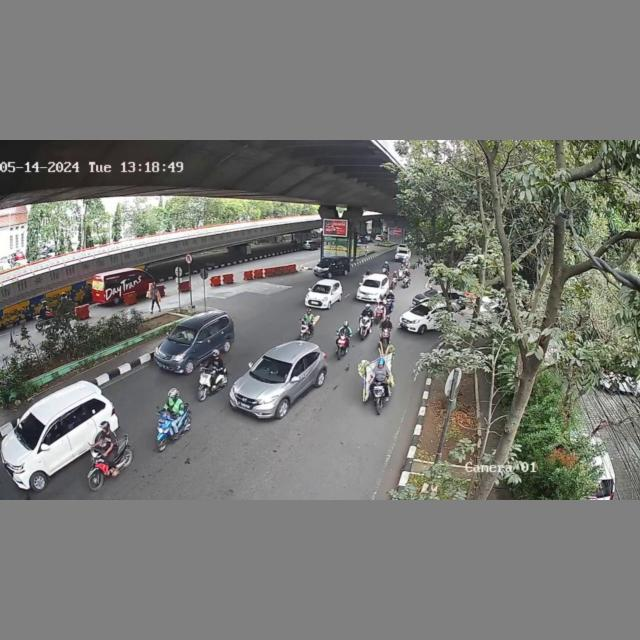windshield: (247, 356, 294, 385), (168, 324, 197, 344)
